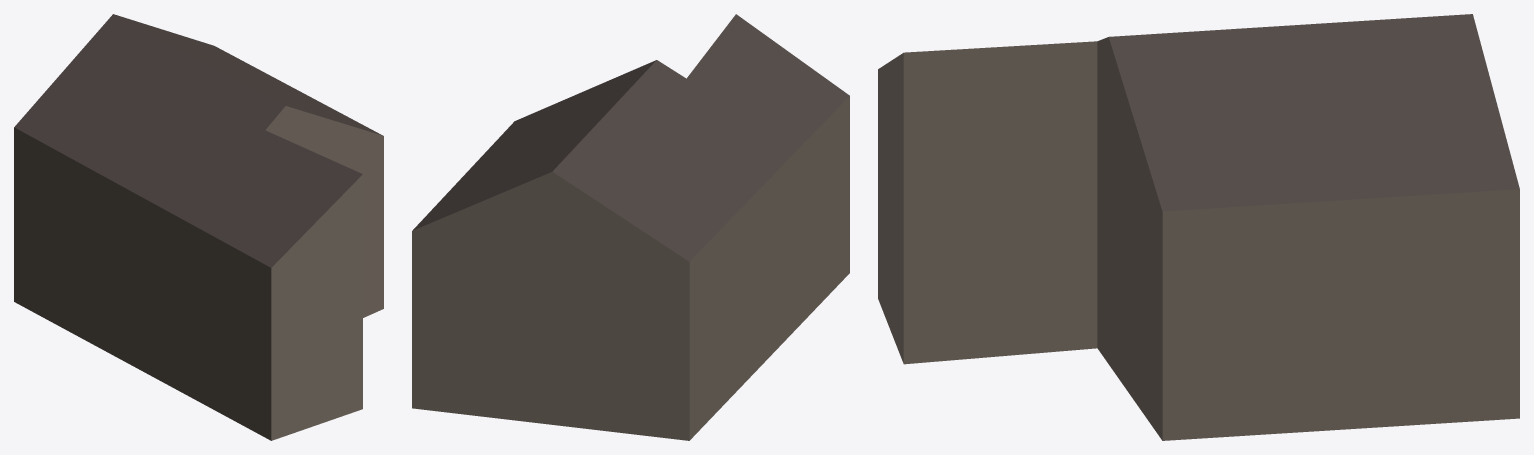
The picture shows the model from 3 angles, left to right: view 1: azimuth 30°, elevation 25°; view 2: azimuth 150°, elevation 25°; view 3: azimuth 270°, elevation 25°; orthographic projection. The views are drawn at different scales.
Parts seen in each view (by area): view 1: HP-w1365659928; view 2: HP-w1365659928; view 3: HP-w1365659928.
Part boxes in pixels (box(x1,y1,x2,y2)): HP-w1365659928: box(14, 14, 383, 440); HP-w1365659928: box(412, 14, 849, 440); HP-w1365659928: box(878, 14, 1519, 440).
Size of the model in its own units: 9.8 by 8.56 by 15.21.
